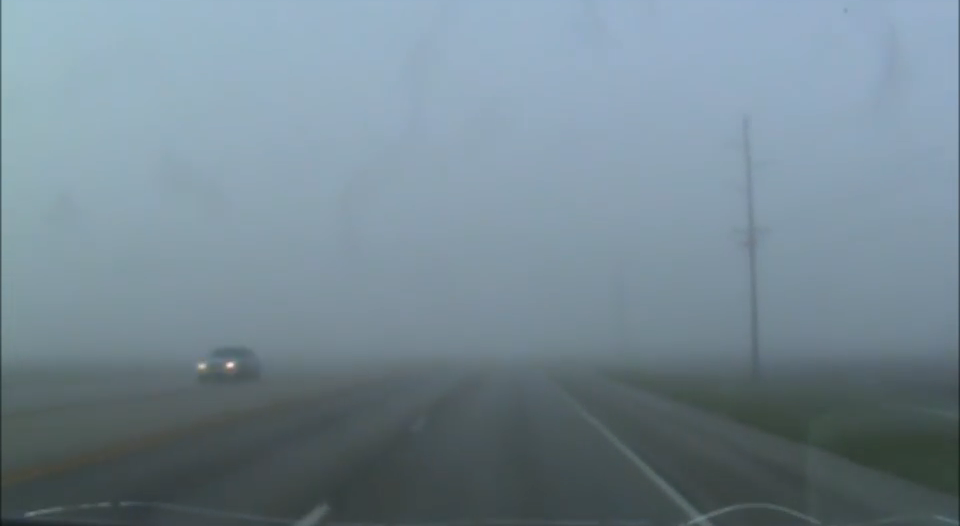car: (195, 347, 259, 382)
